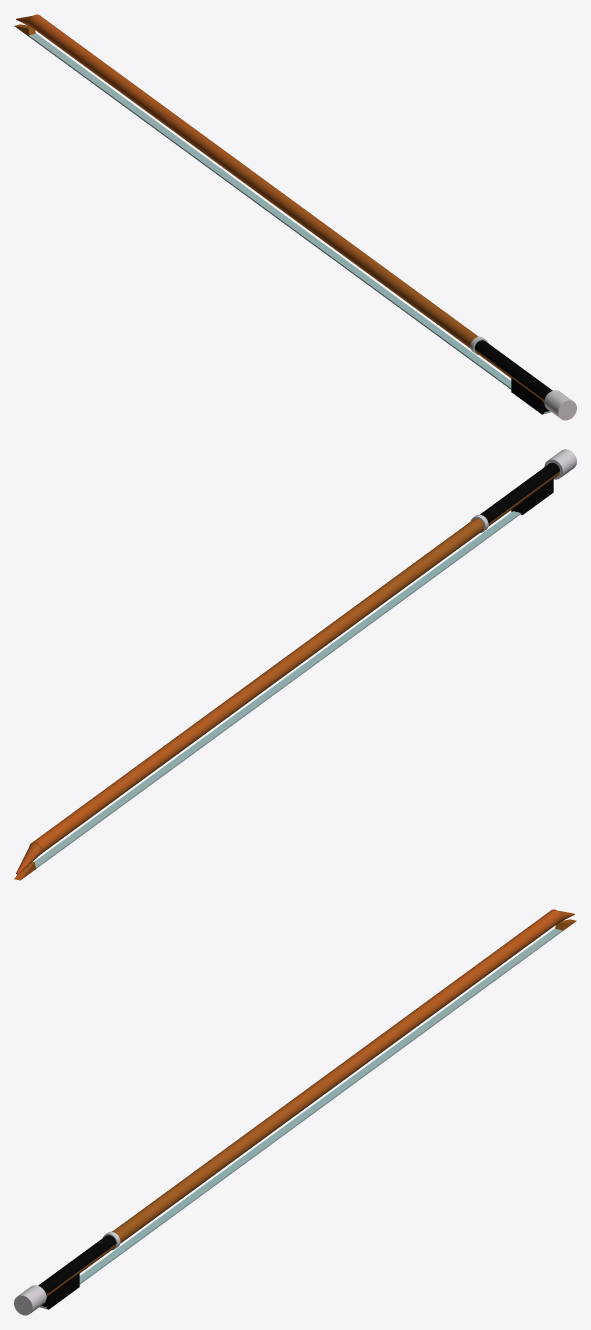
3 views of the same model, one above another, from view 1: azimuth 30°, elevation 25°; view 2: azimuth 150°, elevation 25°; view 3: azimuth 330°, elevation 25° (orthographic).
Parts seen in each view (by area): view 1: shaft, strip, grip, cap; view 2: shaft, strip, grip; view 3: shaft, strip, grip, cap.
Part boxes in pixels (<box>): shaft: <box>29,14,544,402</box>; strip: <box>28,33,551,413</box>; grip: <box>474,340,552,414</box>; cap: <box>544,390,576,420</box>; shaft: <box>29,471,559,853</box>; strip: <box>34,511,520,868</box>; grip: <box>480,462,559,523</box>; shaft: <box>46,909,561,1297</box>; strip: <box>39,928,562,1308</box>; grip: <box>38,1235,116,1309</box>; cap: <box>14,1285,46,1315</box>.
Size of the model in its own units: 0.0147 by 0.0206 by 0.7495.
